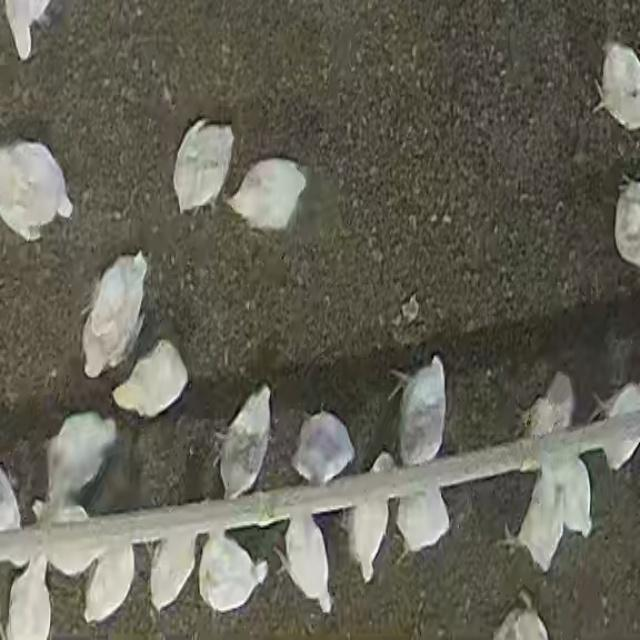chicken: (514, 442, 592, 572), (80, 252, 147, 378), (45, 412, 115, 520), (1, 140, 74, 240), (217, 384, 274, 502), (112, 339, 188, 420), (394, 356, 451, 463), (196, 530, 268, 614), (396, 456, 452, 564), (230, 160, 309, 236), (346, 453, 391, 579), (278, 514, 335, 613), (176, 116, 235, 210), (45, 506, 114, 580), (291, 408, 355, 487), (591, 379, 640, 468), (520, 369, 576, 443), (148, 535, 200, 613), (84, 548, 136, 622), (6, 554, 52, 637)
